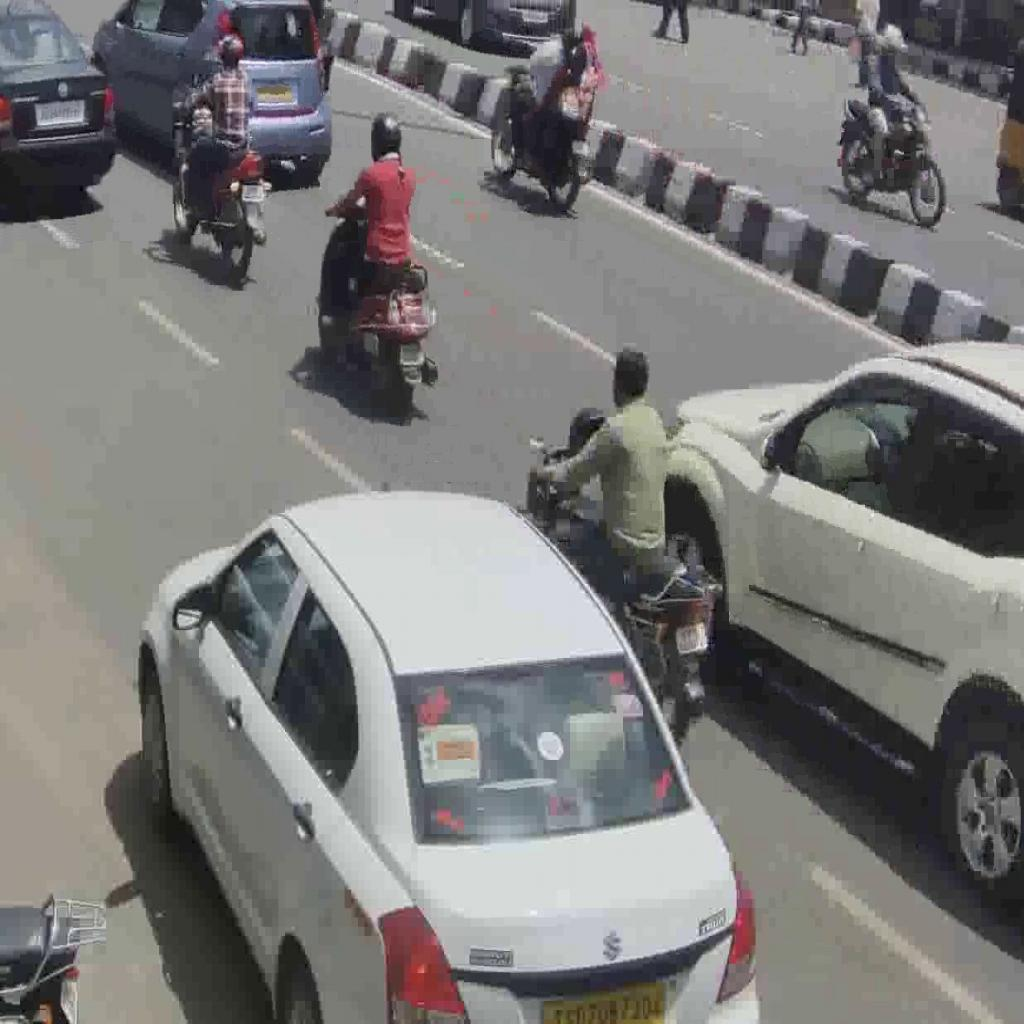helmet: (514, 444, 724, 752), (315, 187, 440, 423), (171, 81, 273, 284)
